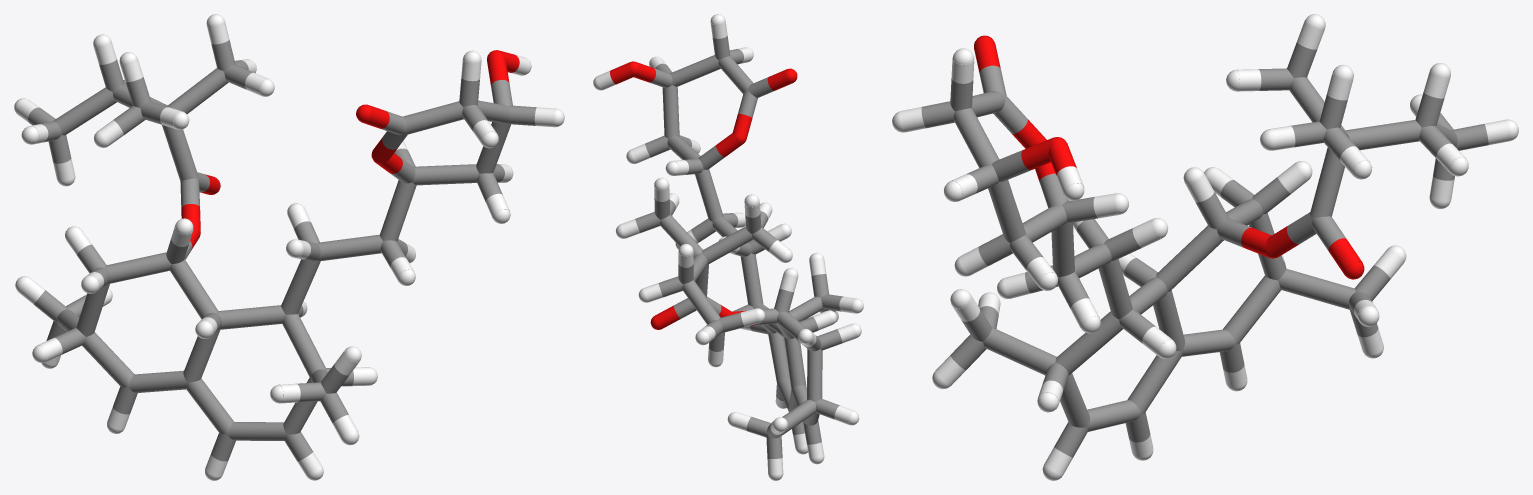
The picture shows the model from 3 angles, left to right: view 1: azimuth 30°, elevation 25°; view 2: azimuth 150°, elevation 25°; view 3: azimuth 270°, elevation 25°; orthographic projection. The views are drawn at different scales.
Visible parts, largest first — view 1: primitive_color (×20); view 2: primitive_color (×41); view 3: primitive_color (×43).
Boxes of the visible parts, bbox=[...] form: primitive_color (×20): bbox=[53, 68, 510, 440]; primitive_color (×41): bbox=[610, 35, 843, 458]; primitive_color (×43): bbox=[921, 42, 1488, 457].
Bounding box in the file's own units: 10.08 × 10.32 × 11.42.
